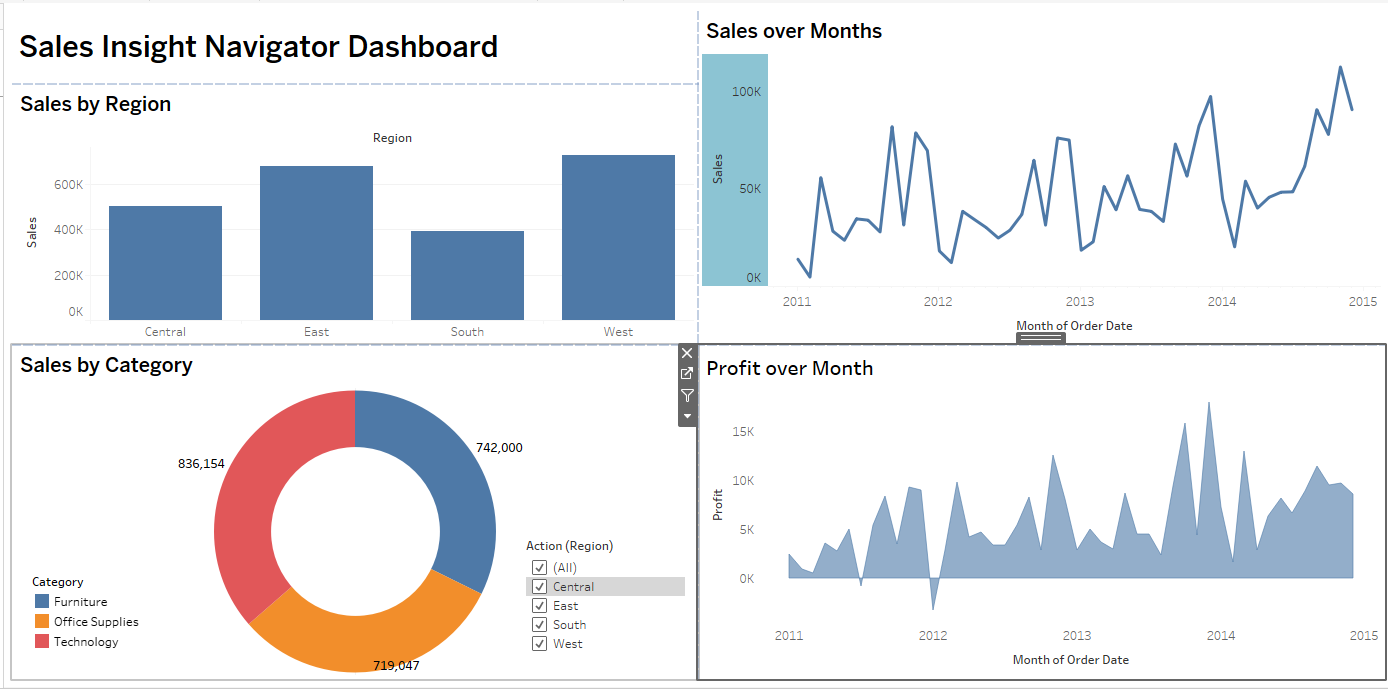

The dashboard page shown, as its layout file describes it:
{"tool":"tableau","page":{"name":"Dashboard 1","canvas":[1000,1000],"units":"permille","ordinal":0},"visuals":[{"type":"text","box":[5.8,11.7,494.2,114]},{"type":"worksheet","title":"Sheet 5","mark":"Text","box":[499.9,11.7,494.3,238.3]},{"type":"worksheet","title":" Sales by Region","mark":"Automatic","rows":["Sales"],"cols":["Region"],"box":[5.8,125.7,494.2,374.3]},{"type":"worksheet","title":"Sales over Months","mark":"Automatic","rows":["Sales"],"cols":["Order Date"],"box":[499.9,250,494.3,337.7]},{"type":"worksheet","title":" Sales by Category","mark":"Pie","cols":["Calculation_699465377666170888","Calculation_699465377666170888"],"box":[5.8,500,494.2,488.3]},{"type":"worksheet","title":"Profit  over Months","mark":"Area","rows":["Profit"],"cols":["Order Date"],"box":[499.9,587.7,494.3,400.6]},{"type":"filter","title":"Sales over Months","param":"[federated.0rxc0xe1wtg4ed1244upg0m0rnzp].[Action (Region)]","box":[375.8,780.7,114.5,185.7]},{"type":"legend","title":" Sales by Category","param":"[federated.0rxc0xe1wtg4ed1244upg0m0rnzp].[none:Category:nk]","box":[20.2,833.3,97.9,114]}]}

Visuals, with their boxes on the dashboard's canvas, which has no fixed pixel size, in thousandths of its width and height (x1, y1, x2, y2). These are canvas units, not pixel positions in the 1388x689 screenshot, which may show the page scaled, cropped or inside an application window:
text: 6:12:500:126
"Sheet 5" worksheet (Text marks): 500:12:994:250
" Sales by Region" worksheet: 6:126:500:500
"Sales over Months" worksheet: 500:250:994:588
" Sales by Category" worksheet (Pie marks): 6:500:500:988
"Profit  over Months" worksheet (Area marks): 500:588:994:988
"Sales over Months" filter: 376:781:490:966
" Sales by Category" legend: 20:833:118:947
